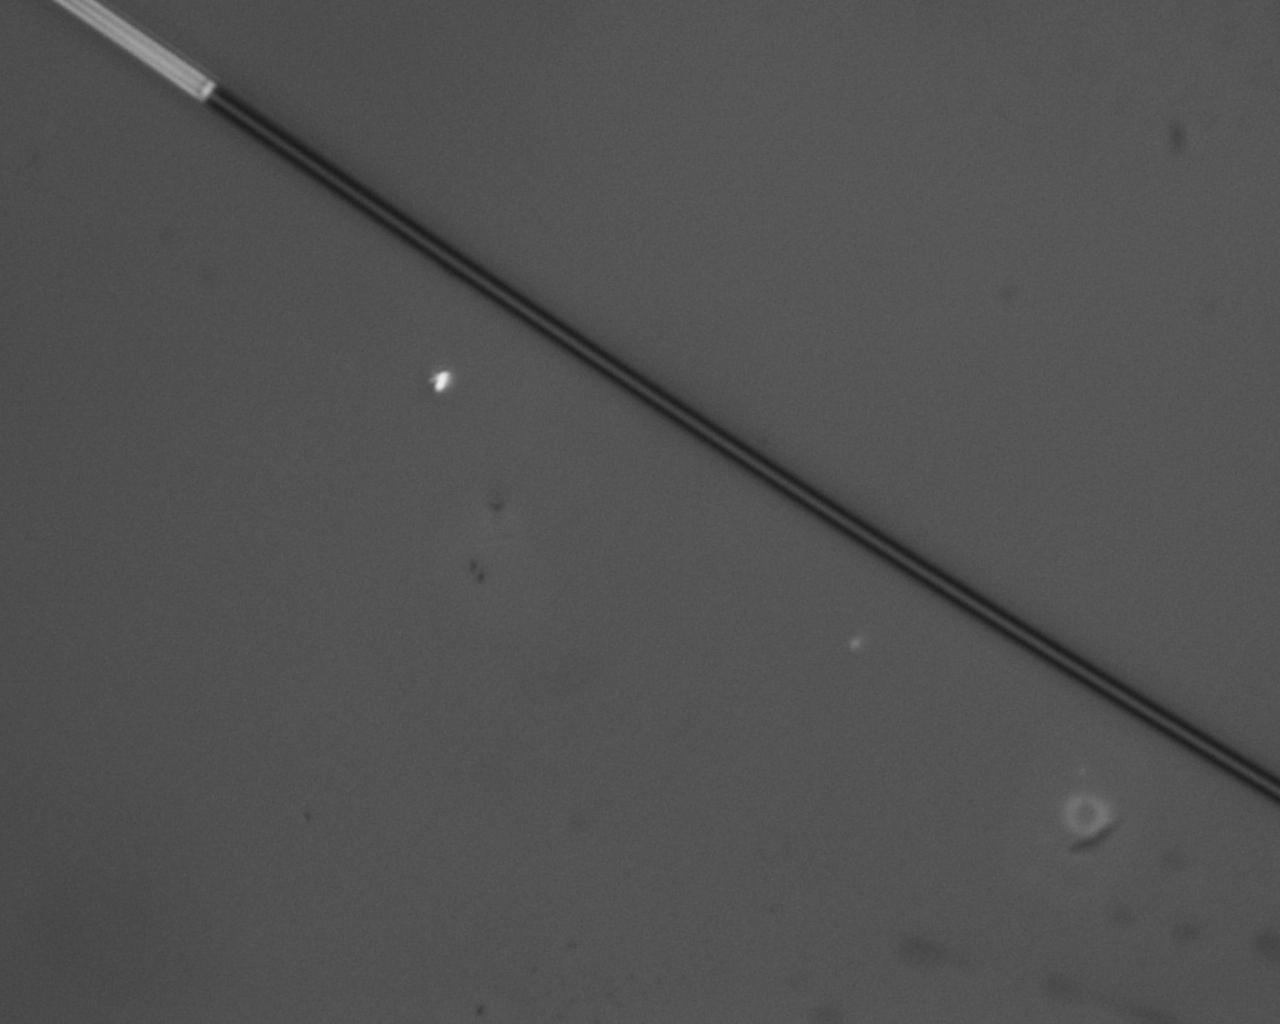fiber: (103, 0, 375, 696), (717, 0, 891, 696), (239, 696, 275, 1024)
